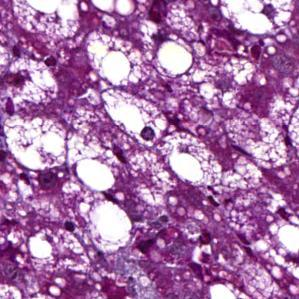ballooning: (99, 87, 171, 150), (86, 29, 152, 92), (4, 117, 68, 174)
